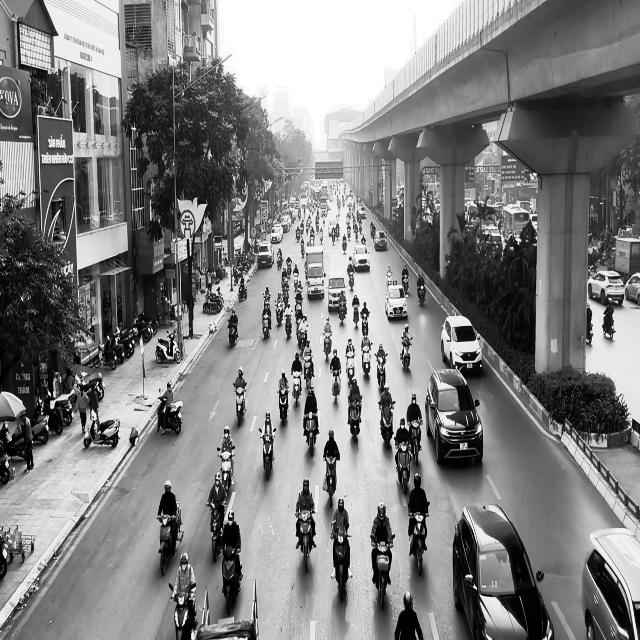car: (452, 502, 555, 640), (580, 527, 640, 639), (425, 368, 483, 465), (440, 315, 483, 375), (587, 270, 625, 306), (384, 284, 408, 319), (624, 272, 640, 304), (352, 244, 370, 272), (374, 230, 387, 250)
motorbike: (370, 533, 395, 610), (168, 582, 197, 640), (221, 546, 243, 615), (408, 504, 429, 576), (331, 530, 351, 602), (84, 408, 120, 448), (294, 508, 316, 572), (206, 502, 225, 562), (156, 392, 183, 434), (258, 426, 276, 481), (394, 438, 411, 494), (155, 329, 181, 364), (323, 453, 339, 508), (378, 399, 395, 448), (217, 446, 235, 492), (303, 410, 320, 457), (408, 418, 422, 466), (348, 396, 362, 443), (232, 382, 246, 426), (277, 386, 289, 426), (375, 352, 387, 389), (400, 337, 412, 372), (302, 355, 314, 390), (330, 368, 341, 404), (361, 342, 372, 378), (291, 371, 302, 406), (346, 348, 356, 384), (602, 313, 615, 339), (323, 330, 332, 362), (262, 310, 271, 339), (228, 321, 238, 347), (338, 296, 347, 324), (416, 281, 426, 306), (586, 320, 593, 345)
